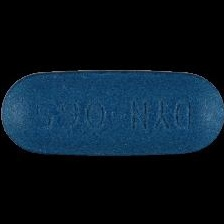99207-463: (0, 0, 224, 224)
